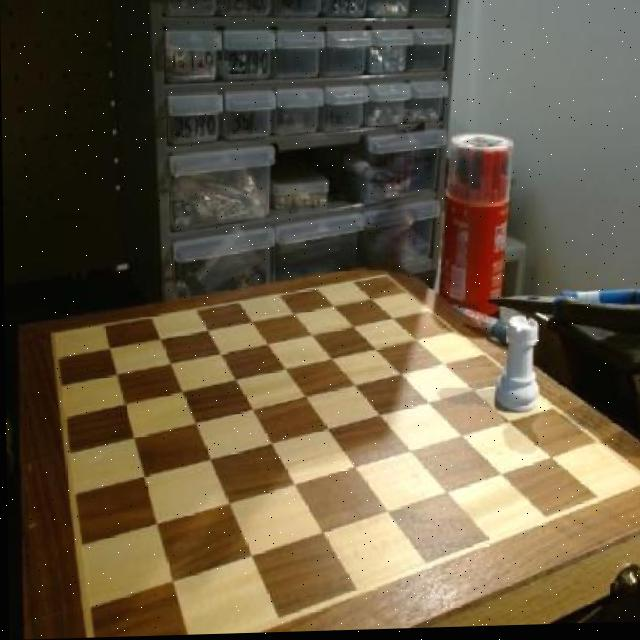white-queen: (495, 314, 545, 419)
